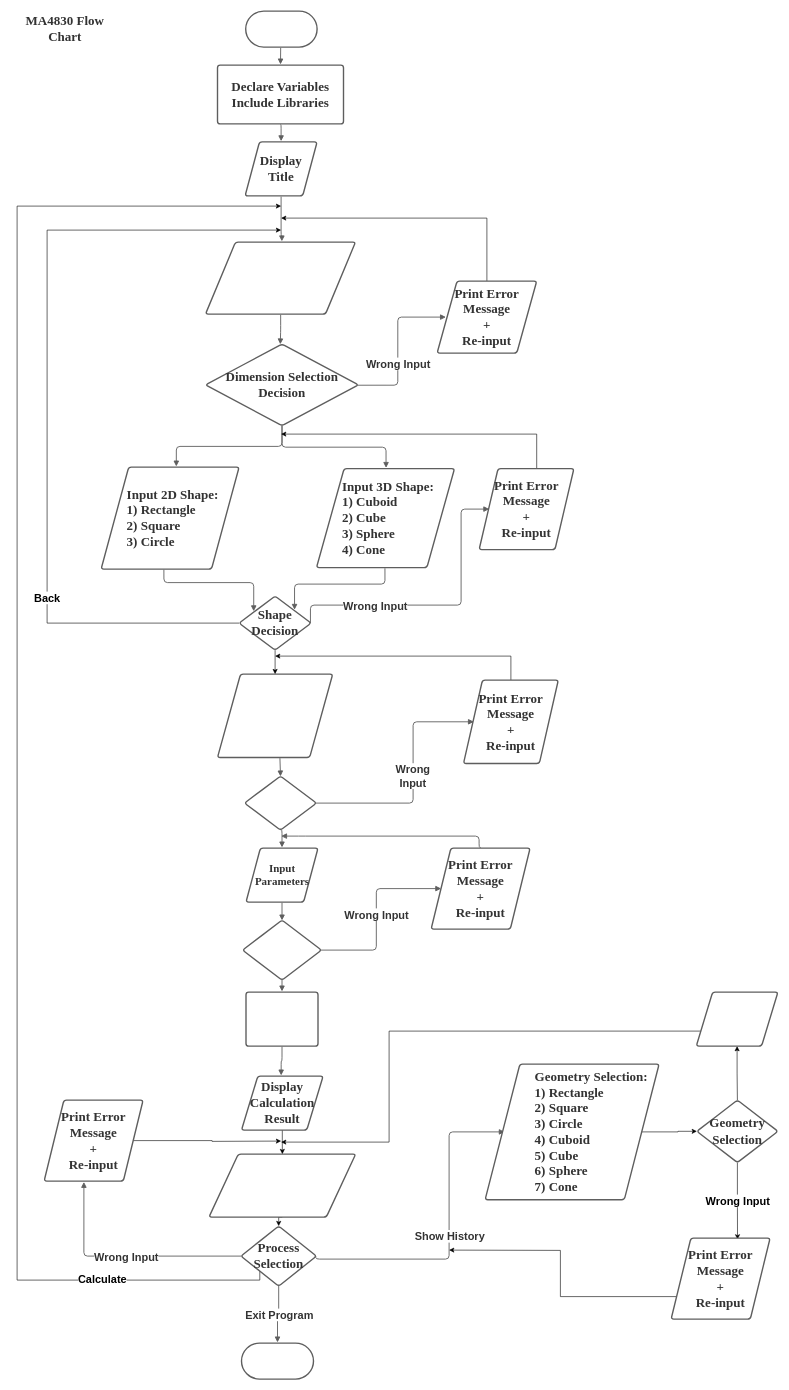
Image size: 789x1390. Some labels were removed from this diagram. Here are the shapes that lost their labels. From the top down, the centre of each, then its label:
At point 281,29: "Start".
At point 280,278: "Input Dimension Selection: 1) 2D 2) 3D".
At point 275,715: "Input Unit: 1)m 2)dm 3)cm 4)mm".
At point 280,803: "Unit Decision".
At point 282,950: "Parameters Decision".
At point 281,1019: "Calculations".
At point 736,1019: "Display History".
At point 282,1185: "Input: 1) Show History 2) Calculate 3) Exit Program".
At point 277,1361: "Stop".
